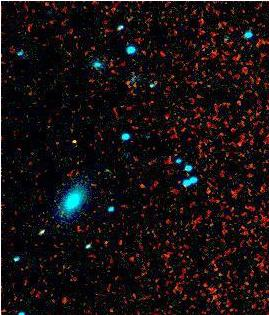star: (57, 126, 87, 156)
